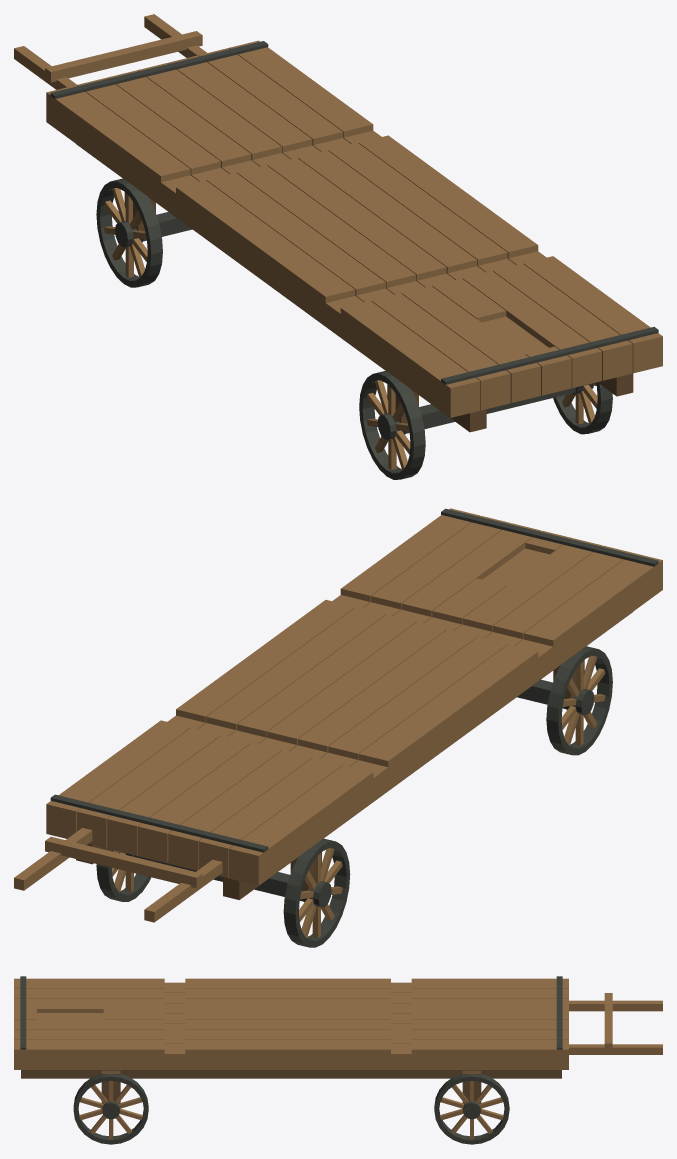
The model's file is cart.glb.
3 renders of one model, top to bottom at view 1: azimuth 30°, elevation 25°; view 2: azimuth 150°, elevation 25°; view 3: azimuth 270°, elevation 25°, orthographic. The views are drawn at different scales.
Parts seen in each view (by area): view 1: joint-cart-body-timber.002, joint-cart-body-iron.002, joint-cart-wheel-iron.008, joint-cart-wheel-iron.009, joint-cart-wheel-timber.008, joint-cart-wheel-timber.009, joint-cart-body-timber-dark.002, joint-cart-wheel-iron.011, joint-cart-wheel-timber.011; view 2: joint-cart-body-timber.002, joint-cart-body-iron.002, joint-cart-wheel-iron.008, joint-cart-wheel-iron.009, joint-cart-wheel-timber.008, joint-cart-wheel-timber.009, joint-cart-body-timber-dark.002, joint-cart-wheel-iron.010; view 3: joint-cart-body-timber.002, joint-cart-body-timber-dark.002, joint-cart-wheel-iron.010, joint-cart-wheel-iron.011, joint-cart-body-iron.002, joint-cart-wheel-timber.011, joint-cart-wheel-timber.010.
Boxes of the visible parts, bbox=[...] form: joint-cart-body-timber.002: bbox=[14, 14, 662, 417]; joint-cart-body-iron.002: bbox=[50, 41, 658, 437]; joint-cart-wheel-iron.008: bbox=[96, 178, 162, 287]; joint-cart-wheel-iron.009: bbox=[359, 371, 425, 479]; joint-cart-wheel-timber.008: bbox=[104, 188, 147, 278]; joint-cart-wheel-timber.009: bbox=[366, 380, 410, 470]; joint-cart-body-timber-dark.002: bbox=[76, 144, 633, 432]; joint-cart-wheel-iron.011: bbox=[553, 382, 612, 434]; joint-cart-wheel-timber.011: bbox=[562, 382, 597, 424]; joint-cart-body-timber.002: bbox=[14, 508, 662, 922]; joint-cart-body-iron.002: bbox=[50, 508, 658, 905]; joint-cart-wheel-iron.008: bbox=[283, 838, 350, 947]; joint-cart-wheel-iron.009: bbox=[546, 646, 612, 755]; joint-cart-wheel-timber.008: bbox=[299, 848, 342, 937]; joint-cart-wheel-timber.009: bbox=[561, 656, 605, 745]; joint-cart-body-timber-dark.002: bbox=[76, 612, 632, 899]; joint-cart-wheel-iron.010: bbox=[96, 850, 151, 901]; joint-cart-body-timber.002: bbox=[14, 978, 662, 1069]; joint-cart-body-timber-dark.002: bbox=[21, 1070, 561, 1103]; joint-cart-wheel-iron.010: bbox=[434, 1073, 509, 1144]; joint-cart-wheel-iron.011: bbox=[73, 1074, 148, 1144]; joint-cart-body-iron.002: bbox=[20, 976, 562, 1116]; joint-cart-wheel-timber.011: bbox=[79, 1081, 142, 1139]; joint-cart-wheel-timber.010: bbox=[440, 1081, 503, 1139].
Bounding box in the file's own units: 1.8 × 1.17 × 6.91.
